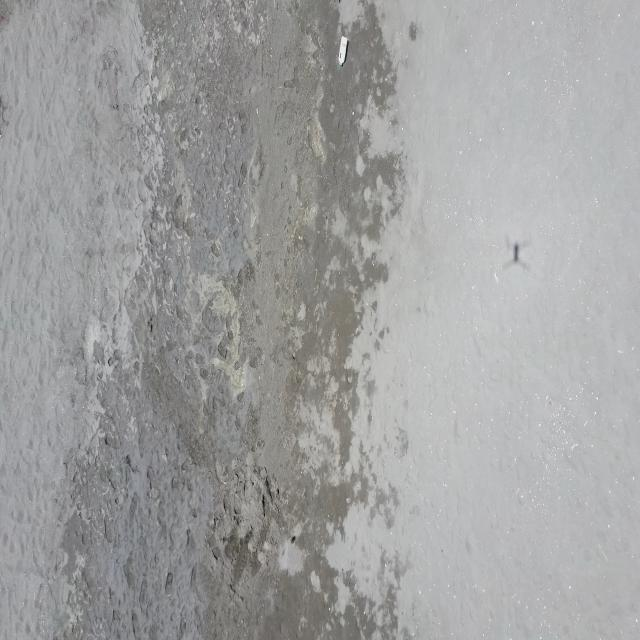plastic-bottle: (338, 35, 349, 68)
